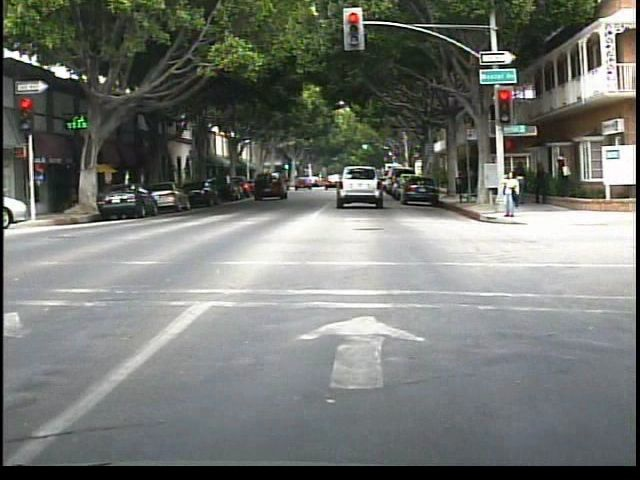person: (496, 167, 521, 220), (552, 150, 575, 198), (529, 157, 549, 208), (515, 156, 529, 204)
